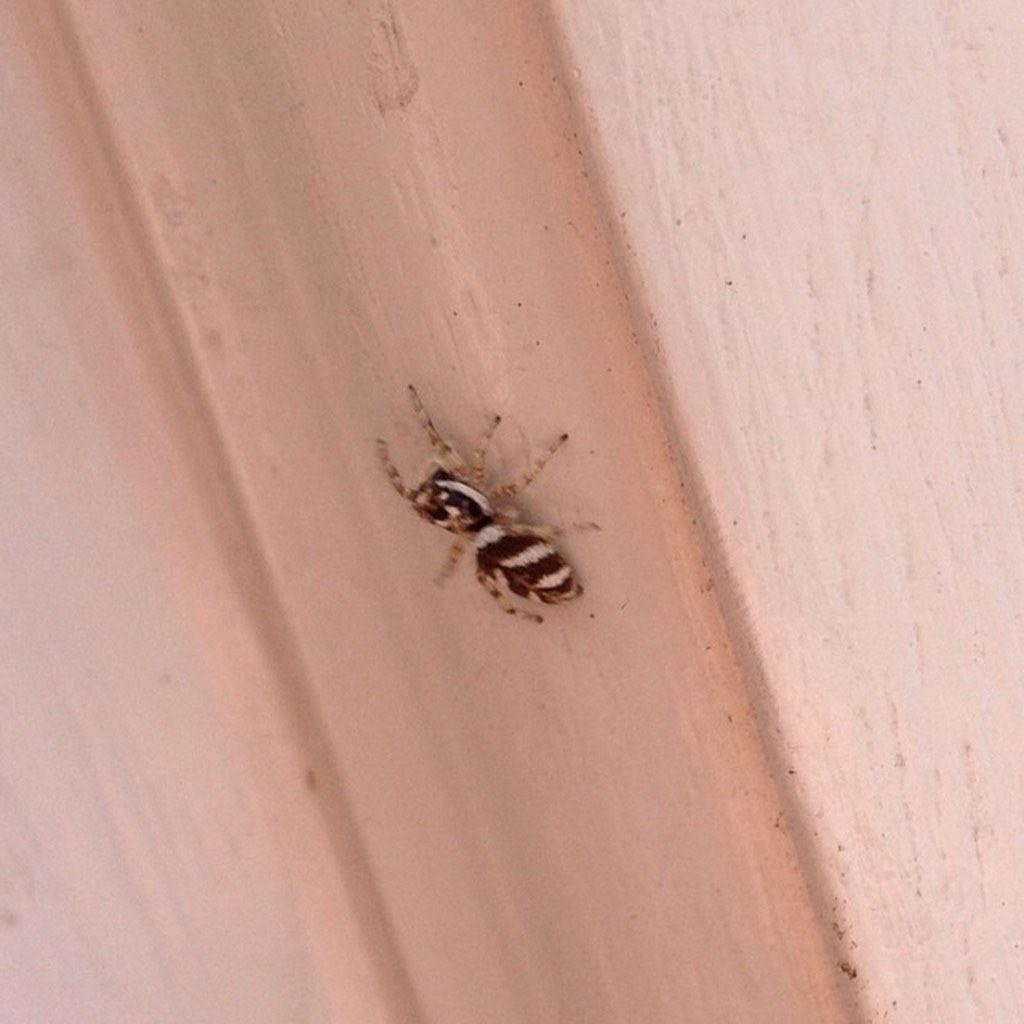insect: (371, 379, 600, 626), (379, 387, 600, 626)
